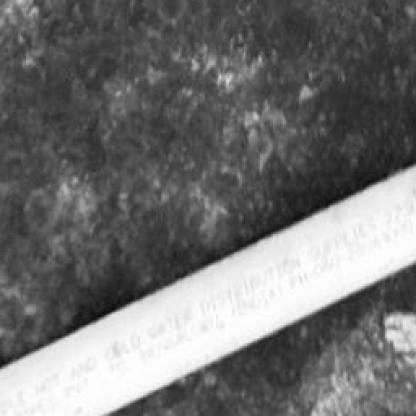PVC: (0, 166, 412, 414)
